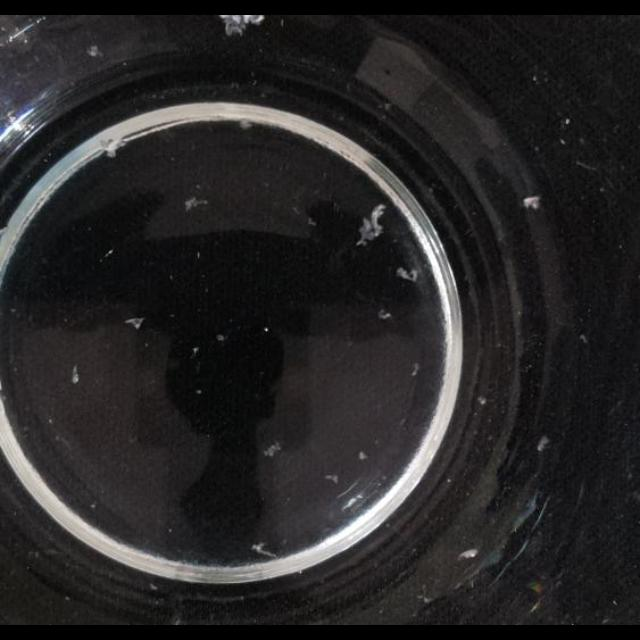Fibre: (356, 205, 386, 245), (218, 16, 264, 36), (102, 136, 128, 156), (250, 542, 278, 558), (184, 196, 208, 212), (397, 266, 418, 282), (263, 442, 281, 456), (536, 437, 550, 453), (70, 364, 80, 384), (88, 44, 102, 58), (377, 308, 391, 320), (410, 363, 420, 377), (324, 474, 338, 484), (239, 120, 253, 130)
microbeads: (523, 196, 541, 210), (458, 548, 478, 560), (344, 496, 361, 509), (358, 450, 368, 460), (104, 249, 114, 259), (191, 346, 199, 356), (580, 334, 588, 344), (217, 333, 226, 341), (478, 396, 487, 404), (90, 502, 96, 510), (196, 252, 202, 260), (196, 389, 202, 395), (263, 326, 269, 332), (560, 138, 566, 144), (564, 118, 570, 124)
